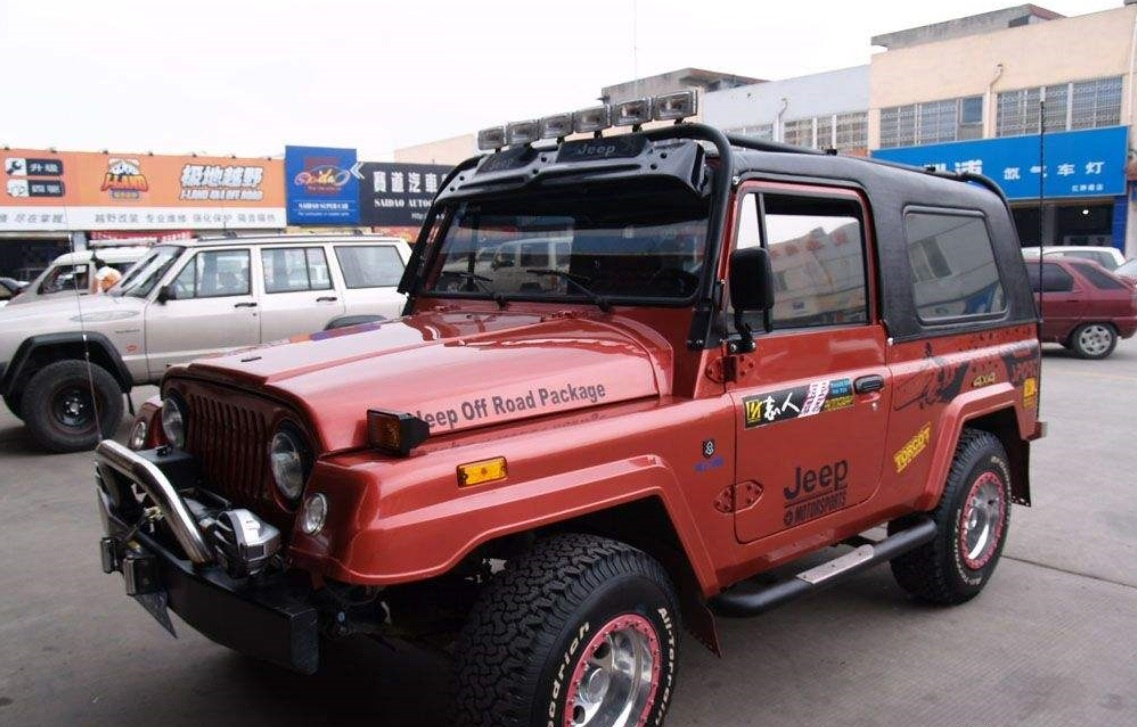jeep: (110, 143, 1054, 727)
